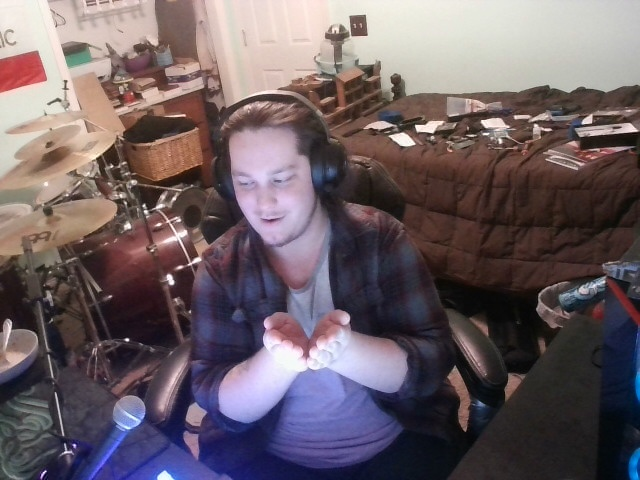book: (234, 298, 371, 387)
